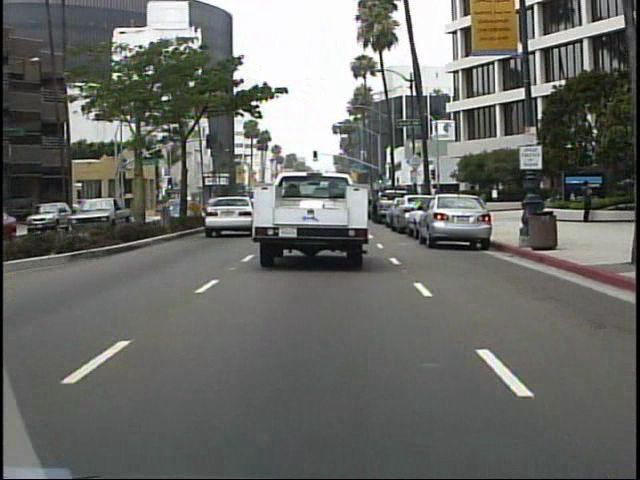person: (579, 178, 599, 225)
